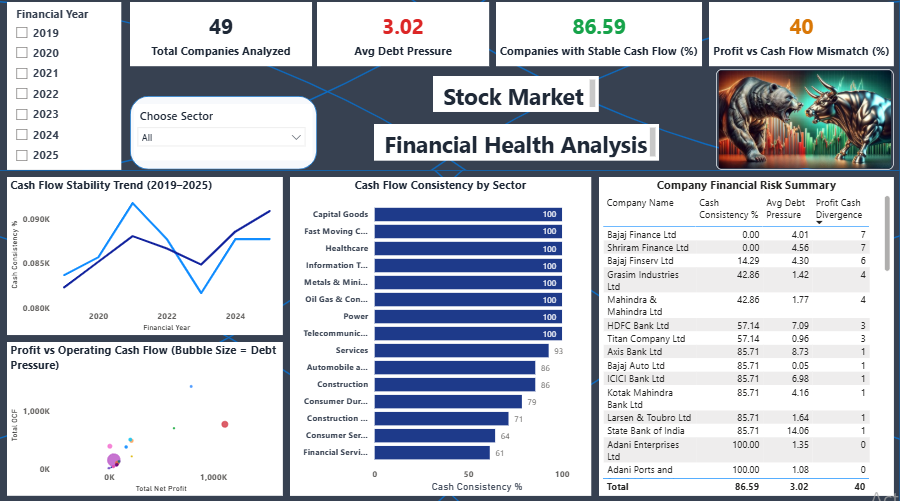

Layout of this report page (visuals, bound fields, positions):
{"tool":"powerbi","page":{"name":"Page 1","canvas":[1280,720],"ordinal":0},"visuals":[{"type":"shape","box":[0,0,1280,268.3],"z":0},{"type":"shape","box":[0,244.6,1280,474.8],"z":1000},{"type":"clusteredBarChart","title":"Cash Flow Consistency by Sector","fields":{"Category":["indian_financials company_financials.sector"],"Y":["indian_financials company_financials.Cash Consistency %"]},"box":[415.3,255.1,426.6,452.1],"z":2000},{"type":"scatterChart","title":"Profit vs Operating Cash Flow (Bubble Size = Debt Pressure)","fields":{"Y":["indian_financials company_financials.Total OCF"],"X":["indian_financials company_financials.Total Net Profit"],"Size":["indian_financials company_financials.Avg Debt Pressure"],"Series":["indian_financials company_financials.sector"]},"box":[14.2,489,391.2,218.3],"z":3000},{"type":"lineChart","title":"Cash Flow Stability Trend (2019–2025)","fields":{"Category":["indian_financials company_financials.financial_year"],"Y2":["indian_financials company_financials.Total OCF"],"Y":["indian_financials company_financials.Cash Consistency %"]},"box":[14.2,255.1,391.2,223.9],"z":4000},{"type":"tableEx","title":"Company Financial Risk Summary","fields":{"Values":["indian_financials company_financials.company_name","indian_financials company_financials.Cash Consistency %","indian_financials company_financials.Avg Debt Pressure","indian_financials company_financials.Profit Cash Divergence"]},"box":[853.2,255.1,418.1,452.1],"z":5000},{"type":"shape","box":[188,140.1,264.9,104.2],"z":6000},{"type":"slicer","fields":{"Values":["indian_financials company_financials.financial_year"]},"box":[14.2,7.1,161.6,238.1],"z":7000},{"type":"slicer","fields":{"Values":["indian_financials company_financials.sector"]},"box":[194.8,152.1,252.9,80.3],"z":8000},{"type":"card","fields":{"Values":["indian_financials company_financials.Avg Debt Pressure"]},"box":[453.5,7.1,243.8,90.7],"z":9000},{"type":"card","fields":{"Values":["indian_financials company_financials.Cash Consistency %"]},"box":[707.2,7.1,292,90.7],"z":10000},{"type":"card","fields":{"Values":["indian_financials company_financials.Total Companies"]},"box":[188.5,7.1,258,90.7],"z":11000},{"type":"card","fields":{"Values":["indian_financials company_financials.Profit Cash Divergence"]},"box":[1009.1,7.1,262.2,90.7],"z":12000},{"type":"image","box":[1019.1,102,252.3,143.1],"z":13000},{"type":"textbox","box":[534.3,180,403.9,52.4],"z":14000},{"type":"textbox","box":[618,112,235.3,51],"z":15000}]}

Visuals, with their boxes in screenshot pixels (x1, y1, x2, y2), scaled from the page's 1280x720 canvas onto the 900x501 screenshot:
shape: bbox=[0, 0, 899, 187]
shape: bbox=[0, 170, 899, 500]
"Cash Flow Consistency by Sector" clusteredBarChart: bbox=[292, 178, 592, 492]
"Profit vs Operating Cash Flow (Bubble Size = Debt Pressure)" scatterChart: bbox=[10, 340, 285, 492]
"Cash Flow Stability Trend (2019–2025)" lineChart: bbox=[10, 178, 285, 333]
"Company Financial Risk Summary" tableEx: bbox=[600, 178, 894, 492]
shape: bbox=[132, 97, 318, 170]
slicer - indian_financials company_financials.financial_year: bbox=[10, 5, 124, 171]
slicer - indian_financials company_financials.sector: bbox=[137, 106, 315, 162]
card - indian_financials company_financials.Avg Debt Pressure: bbox=[319, 5, 490, 68]
card - indian_financials company_financials.Cash Consistency %: bbox=[497, 5, 703, 68]
card - indian_financials company_financials.Total Companies: bbox=[133, 5, 314, 68]
card - indian_financials company_financials.Profit Cash Divergence: bbox=[710, 5, 894, 68]
image: bbox=[717, 71, 894, 171]
textbox: bbox=[376, 125, 660, 162]
textbox: bbox=[435, 78, 600, 113]
